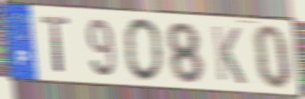0: (249, 23, 295, 92)
8: (166, 20, 208, 86)
9: (85, 17, 117, 79)
K: (210, 23, 248, 87)
O: (122, 17, 166, 85)
T: (39, 14, 72, 76)
